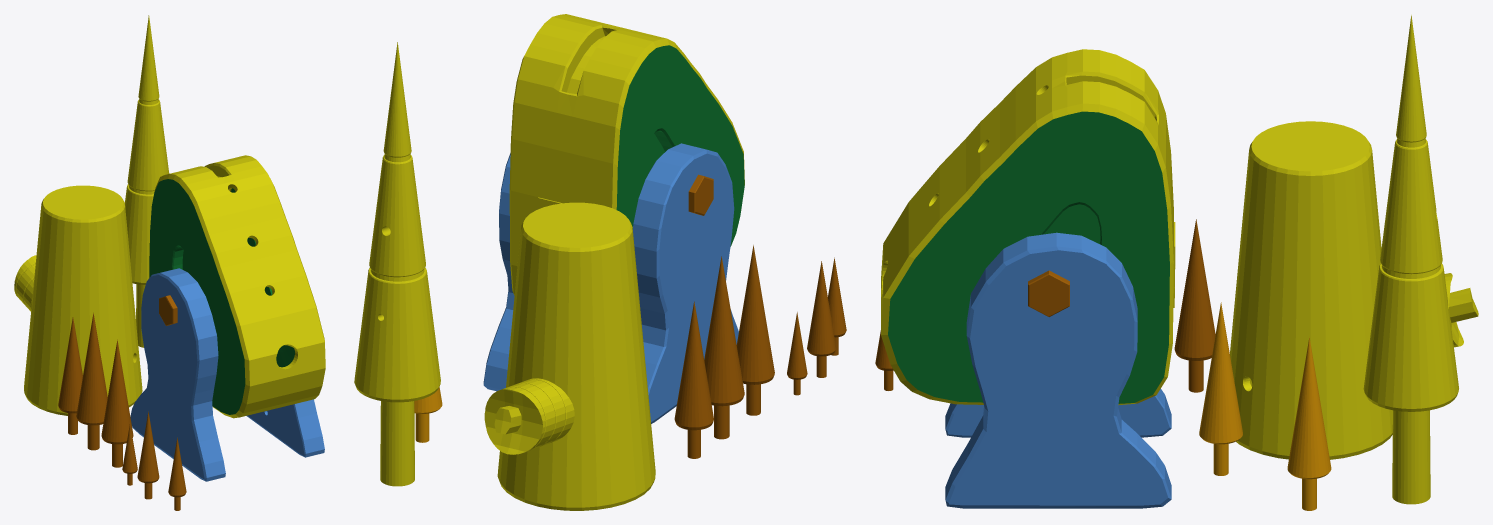
File: RollerDragon.dae
3 renders of one model, left to right at view 1: azimuth 30°, elevation 25°; view 2: azimuth 150°, elevation 25°; view 3: azimuth 270°, elevation 25°, orthographic. The views are drawn at different scales.
Parts seen in each view (by area): view 1: Cylinder_006; view 2: Cylinder_006; view 3: Cylinder_006.
Boxes of the visible parts, box(x1,y1,x2,y2) form: Cylinder_006: box(14, 15, 325, 510); Cylinder_006: box(354, 14, 846, 510); Cylinder_006: box(875, 15, 1478, 510).
Bounding box in the file's own units: 65.63 × 118 × 104.
